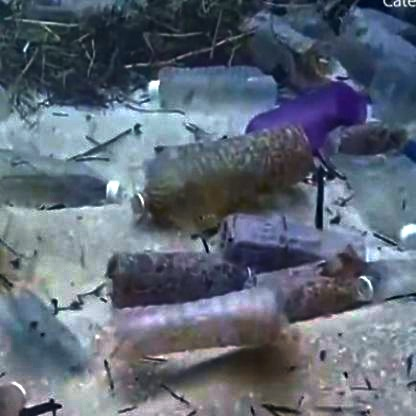pbottle: (141, 23, 297, 146), (1, 87, 128, 210), (140, 138, 321, 222), (80, 229, 259, 304), (125, 282, 271, 365), (235, 87, 372, 171), (344, 107, 416, 256), (242, 234, 380, 311)
